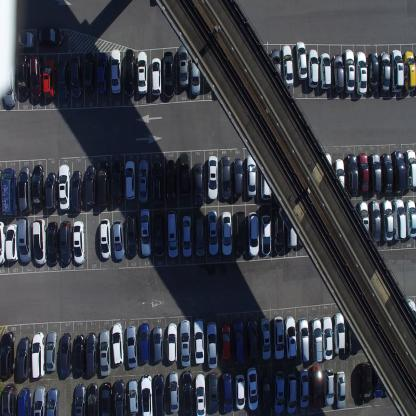car: (1, 168, 17, 216), (0, 330, 15, 379), (17, 215, 32, 263), (32, 219, 47, 266), (16, 335, 31, 381), (139, 207, 152, 258), (18, 166, 32, 212), (29, 55, 43, 100), (392, 149, 406, 194), (166, 210, 179, 258), (58, 163, 71, 211), (152, 211, 165, 257), (59, 219, 72, 265), (32, 163, 45, 209), (391, 48, 404, 94), (32, 332, 45, 378), (37, 26, 64, 48), (139, 373, 153, 415), (72, 220, 85, 265), (70, 53, 83, 98), (234, 209, 246, 257), (247, 210, 259, 258), (179, 319, 191, 367), (192, 317, 204, 365), (60, 331, 72, 379), (99, 328, 111, 376), (3, 66, 17, 107), (358, 362, 372, 403), (393, 198, 406, 242), (310, 317, 323, 361), (206, 209, 218, 256), (162, 51, 174, 98), (98, 160, 110, 207), (42, 59, 56, 99), (346, 153, 359, 196), (357, 200, 370, 243), (220, 210, 232, 256), (178, 151, 190, 197), (150, 160, 162, 206), (111, 159, 123, 205), (355, 50, 367, 96), (112, 219, 125, 261), (272, 209, 284, 254), (259, 155, 271, 200), (126, 212, 138, 257), (233, 320, 245, 365), (259, 316, 271, 361), (47, 220, 59, 265), (343, 48, 355, 93), (297, 317, 309, 362), (284, 315, 296, 360), (310, 364, 322, 409), (246, 365, 258, 410), (181, 370, 193, 415), (112, 322, 124, 367), (369, 153, 382, 194), (206, 320, 217, 368), (246, 317, 258, 361), (124, 48, 135, 96), (307, 46, 319, 90), (367, 50, 379, 94), (381, 151, 393, 195), (381, 198, 393, 242), (334, 312, 346, 356), (1, 382, 17, 415), (86, 332, 98, 376), (126, 324, 138, 368), (295, 40, 308, 80), (286, 206, 298, 249), (404, 50, 416, 93), (272, 316, 284, 359), (207, 154, 218, 200), (138, 158, 149, 204), (110, 48, 121, 94), (57, 57, 69, 99), (10, 29, 34, 50), (281, 44, 293, 86), (379, 50, 391, 92), (221, 372, 233, 414), (194, 373, 206, 415), (168, 372, 180, 414), (220, 155, 231, 200), (18, 54, 29, 99), (45, 171, 58, 209), (259, 377, 272, 415), (232, 157, 244, 198), (124, 160, 136, 201), (404, 148, 416, 189), (153, 374, 165, 415), (166, 159, 177, 203), (245, 153, 256, 197), (137, 51, 148, 95), (97, 51, 108, 95), (178, 44, 189, 88), (270, 48, 281, 92), (346, 312, 357, 356), (322, 316, 333, 360), (220, 322, 232, 362), (193, 162, 204, 205), (86, 164, 97, 207), (320, 152, 331, 195), (370, 200, 381, 243), (208, 371, 219, 414), (194, 214, 205, 256), (100, 217, 111, 259), (71, 170, 82, 212), (84, 50, 95, 92), (358, 151, 369, 193), (286, 372, 297, 414), (74, 334, 85, 376), (140, 322, 151, 364), (5, 224, 17, 262), (319, 52, 331, 90), (332, 54, 344, 92), (323, 367, 335, 405), (334, 157, 345, 198), (298, 368, 309, 409), (46, 331, 57, 372), (405, 297, 415, 342), (127, 378, 139, 415), (100, 381, 113, 415), (182, 213, 192, 257), (190, 52, 200, 96), (274, 369, 284, 413), (114, 379, 126, 415), (204, 48, 214, 91), (74, 382, 87, 415), (153, 325, 164, 364), (261, 214, 271, 256), (167, 322, 177, 364), (373, 356, 383, 397), (405, 198, 415, 238), (87, 382, 99, 415), (46, 387, 60, 415), (151, 57, 161, 96), (33, 386, 46, 416), (18, 386, 31, 416), (336, 370, 346, 408), (235, 373, 245, 410), (0, 220, 6, 264)
